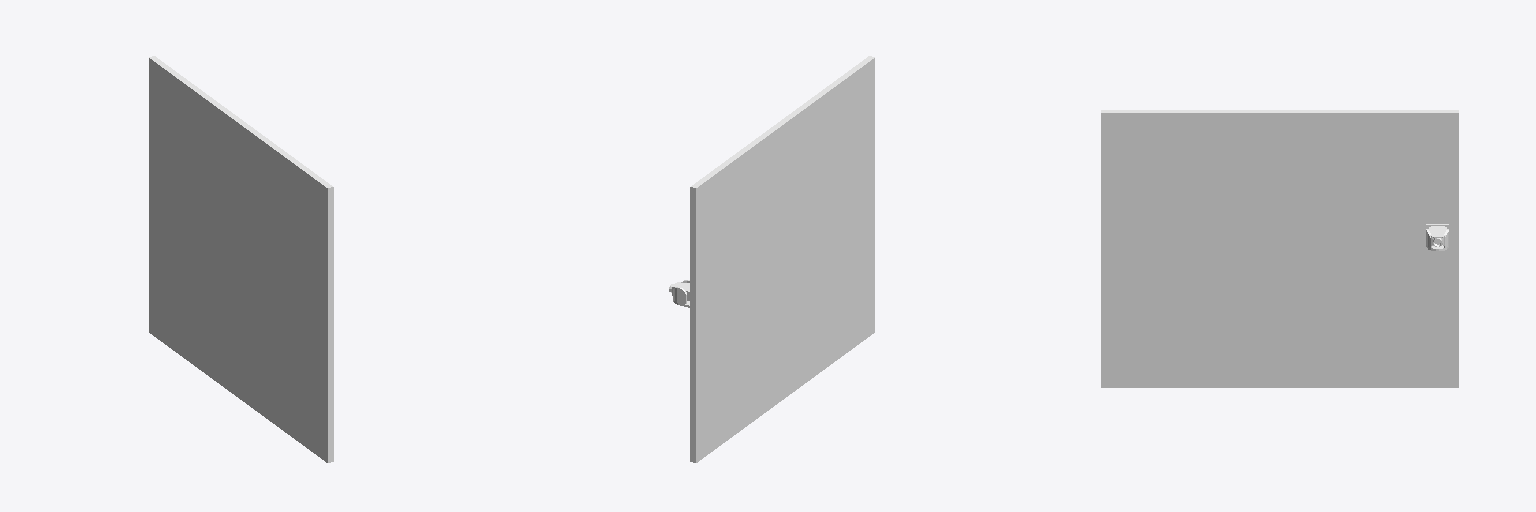
The model's file is projector_3.obj.
The picture shows the model from 3 angles: view 1: azimuth 30°, elevation 25°; view 2: azimuth 150°, elevation 25°; view 3: azimuth 270°, elevation 25°; orthographic projection.
Visible parts, largest first — view 1: projector_3; view 2: projector_3; view 3: projector_3.
Boxes of the visible parts, <box> form: projector_3: <box>149,56,333,462</box>; projector_3: <box>669,56,874,462</box>; projector_3: <box>1101,110,1458,387</box>.
Bounding box in the file's own units: 2.35 × 17.3 × 20.41.